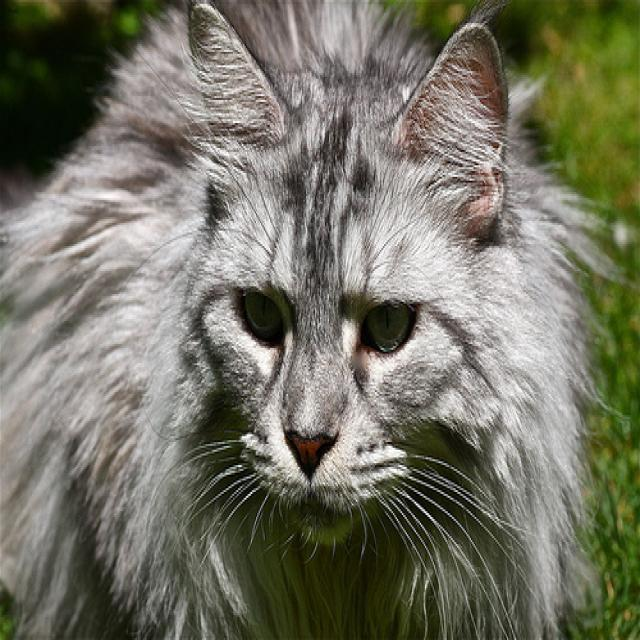Maine_Coon: (179, 0, 507, 544)
